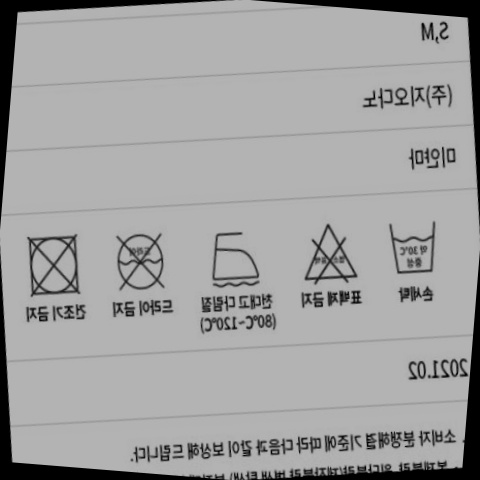30C: (377, 208, 451, 284)
DN_dry_clean: (103, 221, 178, 298)
DN_tumble_dry: (14, 225, 92, 306)
iron: (199, 219, 270, 295)
non_chlorine_bleach: (292, 212, 366, 291)
